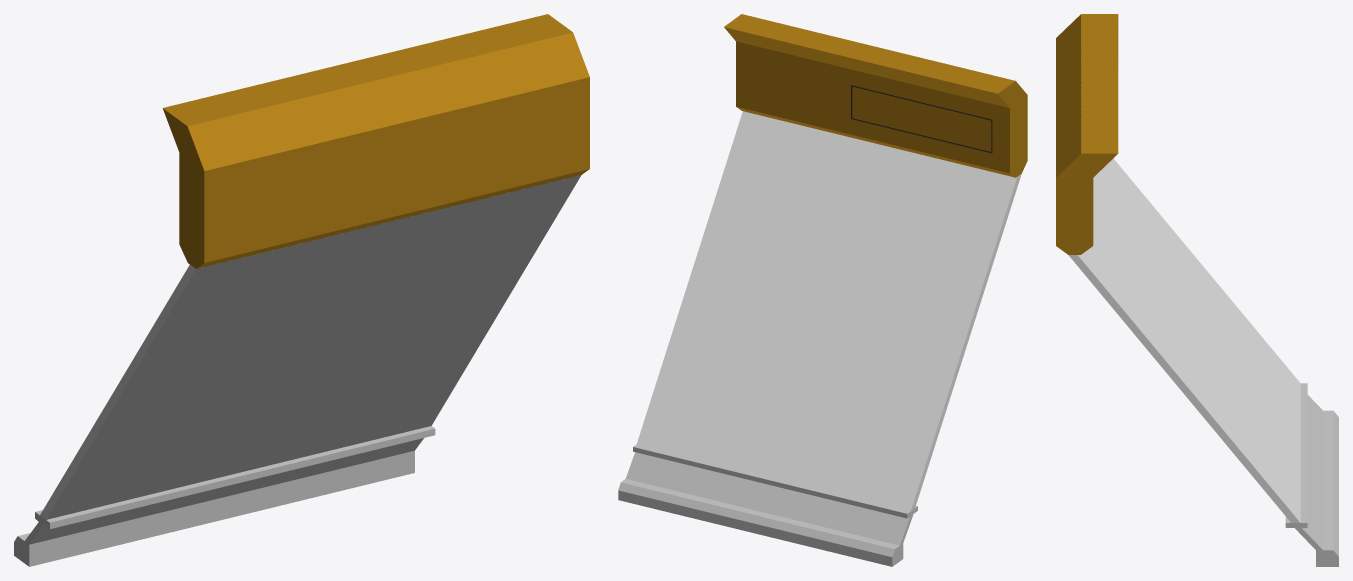
File: wall3Text.fbx
The picture shows the model from 3 angles, left to right: view 1: azimuth 30°, elevation 25°; view 2: azimuth 150°, elevation 25°; view 3: azimuth 270°, elevation 25°; orthographic projection. The views are drawn at different scales.
Parts seen in each view (by area): view 1: Glass, wallHeight, Cube; view 2: Glass, wallHeight, Cube; view 3: Glass, wallHeight, Cube.
Part boxes in pixels (x1,y1,x2,y2): Glass: (40, 175, 581, 519); wallHeight: (162, 14, 589, 268); Cube: (14, 426, 435, 566); Glass: (636, 111, 1021, 511); wallHeight: (724, 14, 1027, 177); Cube: (618, 444, 917, 566); Glass: (1068, 158, 1300, 522); wallHeight: (1056, 14, 1118, 254); Cube: (1285, 383, 1338, 566).
Bounding box in the file's own units: 258 × 356 × 221.
